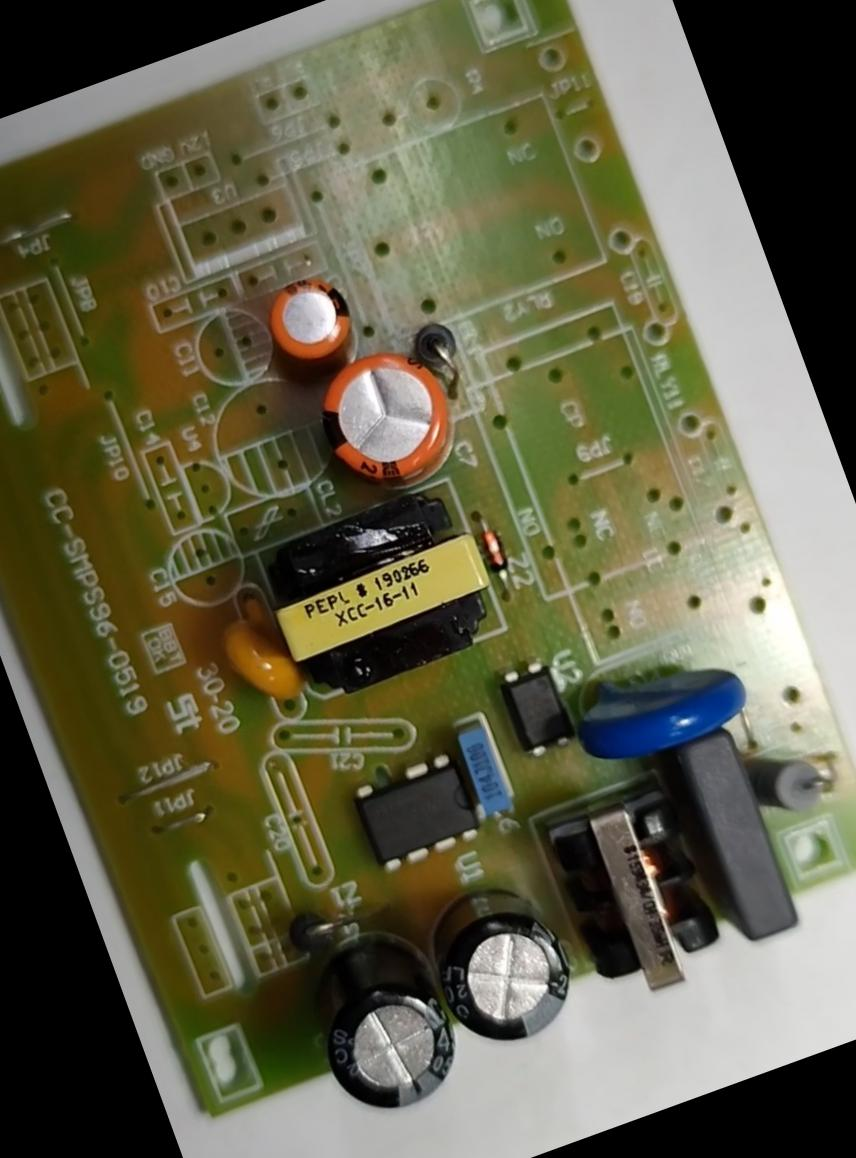Cap1: (284, 318, 492, 516)
Cap2: (236, 243, 384, 391)
Cap3: (407, 849, 602, 1068)
Cap4: (274, 880, 484, 1136)
MOSFET: (340, 737, 500, 882)
Mov: (553, 621, 772, 785)
Resistor: (732, 716, 852, 836)
Transformer: (226, 466, 518, 716), (529, 756, 748, 1019)
